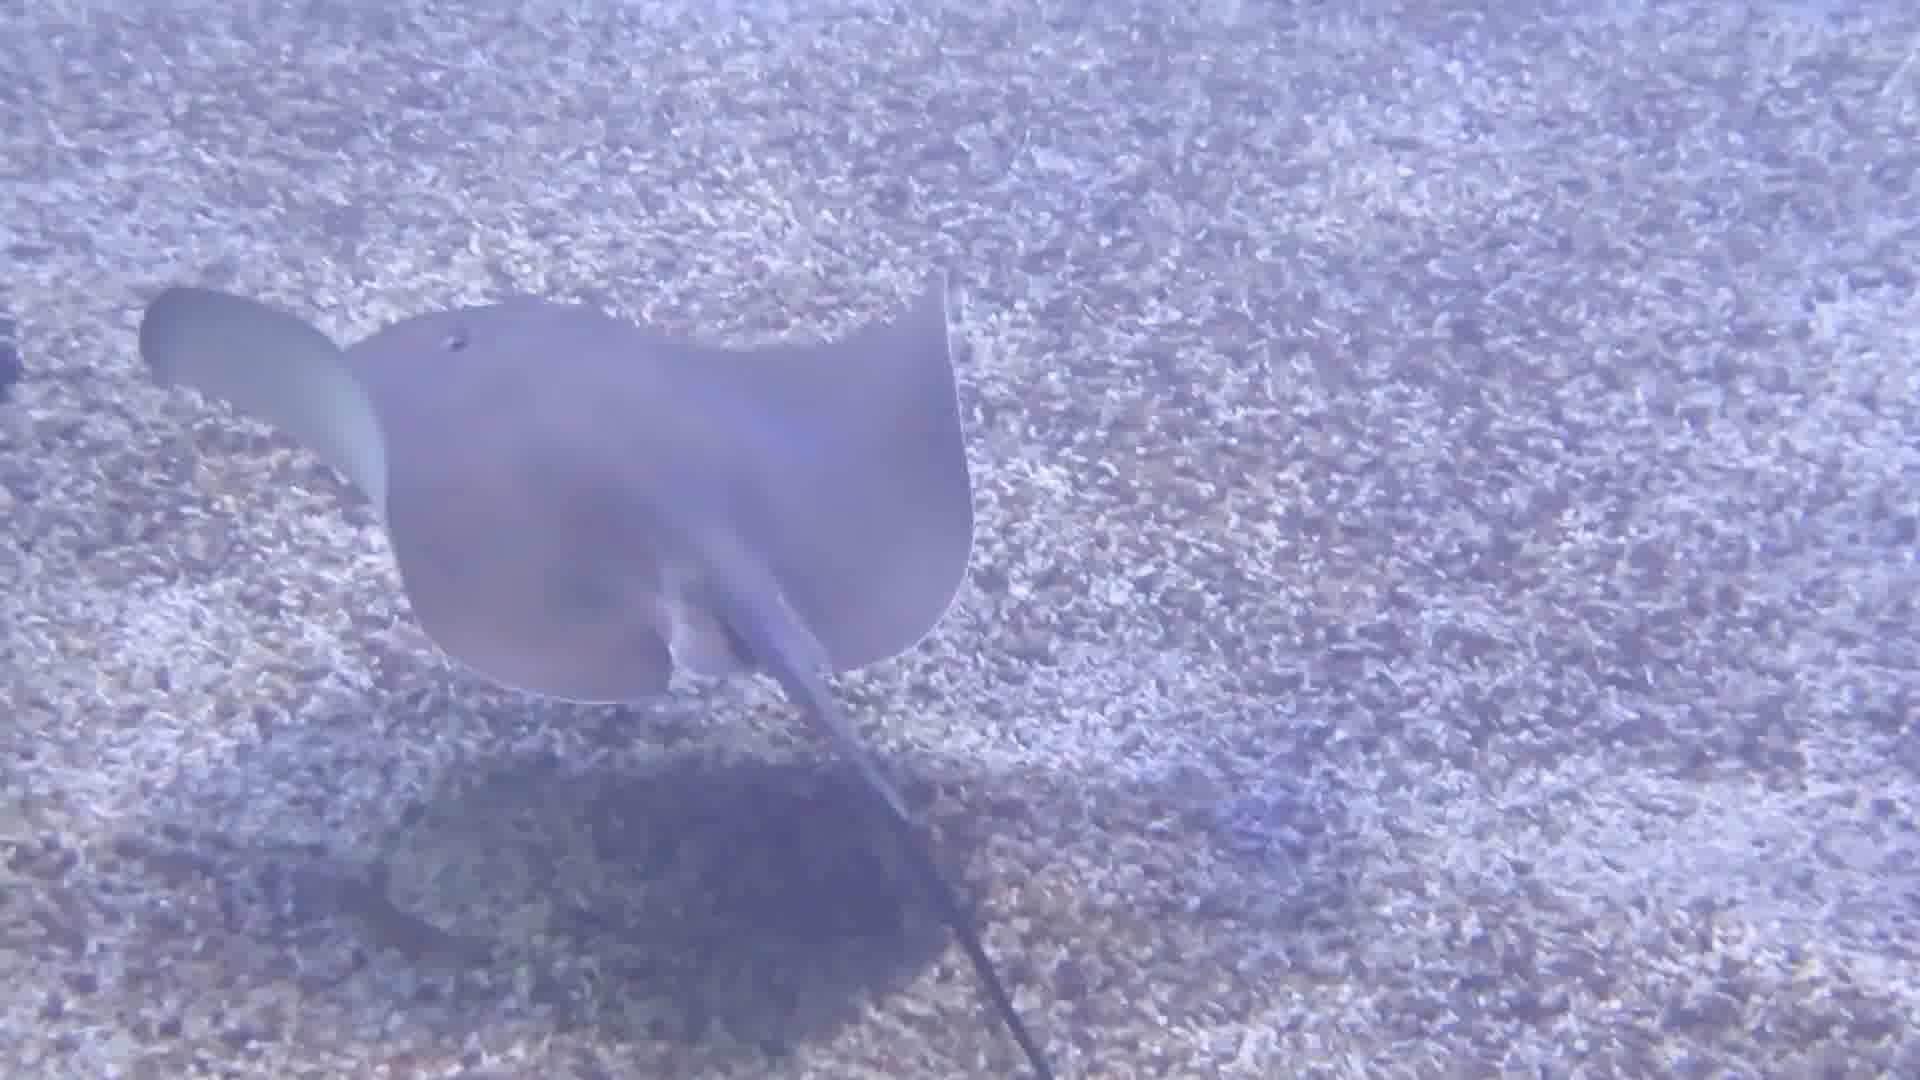Dasyatis akajei: (138, 136, 1100, 1073)
